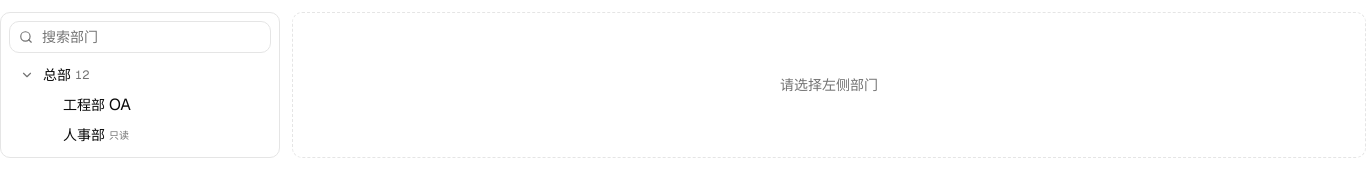
Test: OrgAdminPage › filters tree by search
Step 1. Type "人事" into the search field labelled "搜索部门" → (140, 37), box [9,21,271,53]
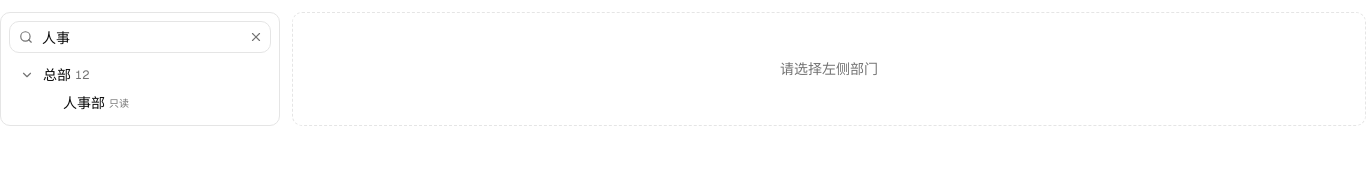
Expected: the text "人事部" is shown, [63,93,105,113]
Result: the text "工程部" is gone
